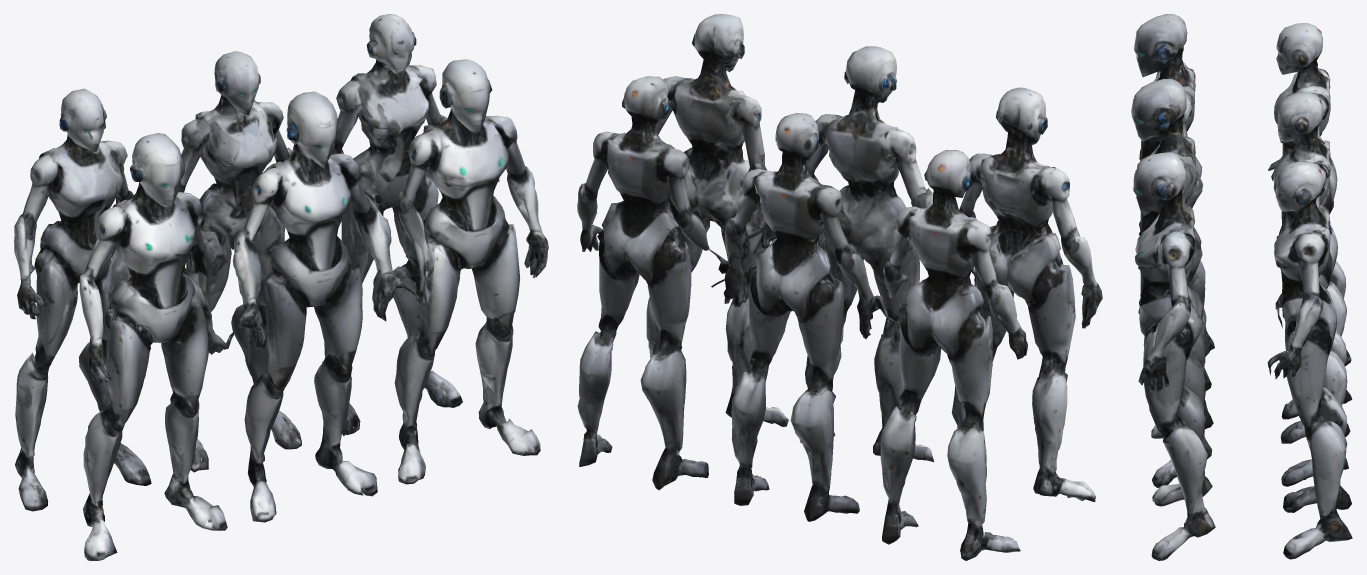
Rendered from meshy_01972a17-7a15-7386-b6a3-c02e2ebbd2f2.glb.
3 renders of one model, left to right at view 1: azimuth 30°, elevation 25°; view 2: azimuth 150°, elevation 25°; view 3: azimuth 270°, elevation 25°, orthographic. The views are drawn at different scales.
Size of the model in its own units: 2 by 1.73 by 0.9108.
1 material, 1 textured.
